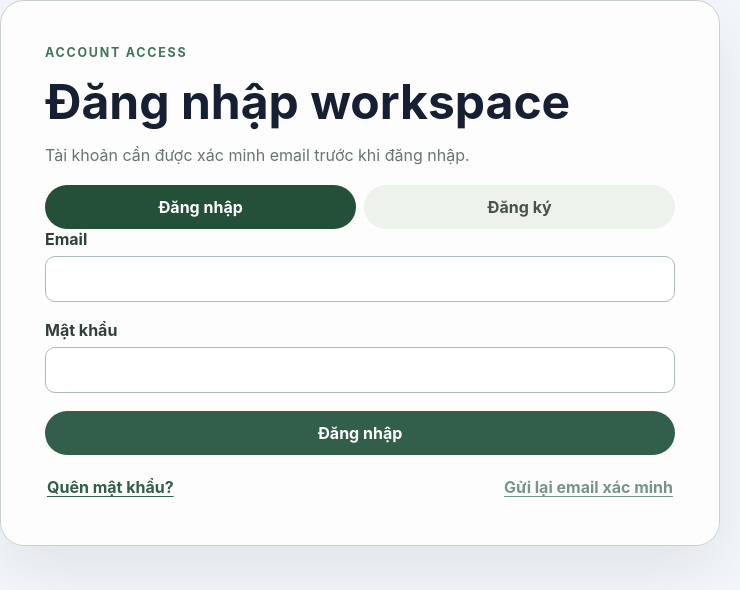
Scenario: LoginPage account recovery › submits a generic forgot-password request without exposing account existence
Click the button "Quên mật khẩu?". click: click(110, 487)
box: [45, 473, 176, 501]
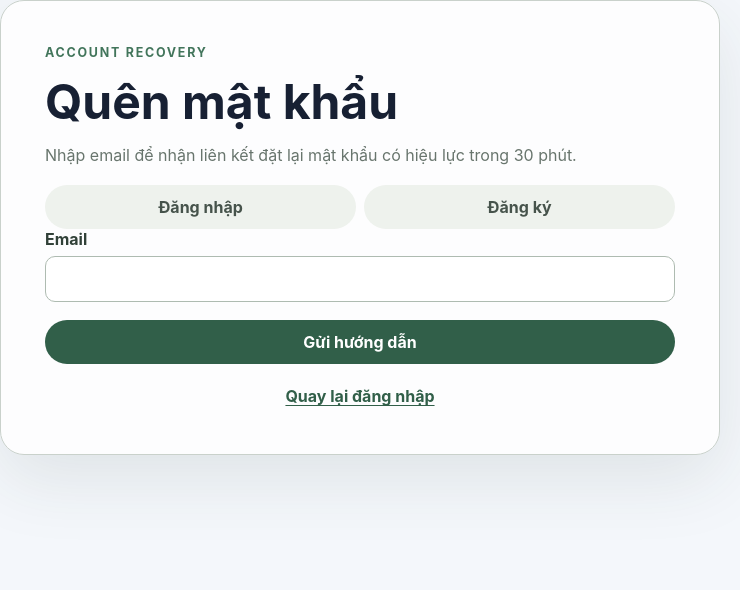
Type "candidate@example.com" into the field labelled "Email". click: (360, 279)
box: [45, 256, 675, 302]
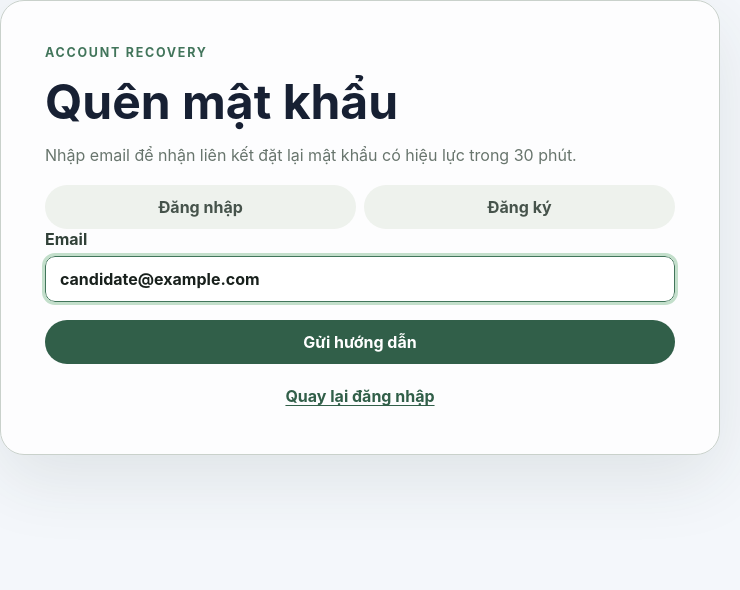
Click the button "Gửi hướng dẫn". click: click(360, 342)
box: [45, 320, 675, 364]
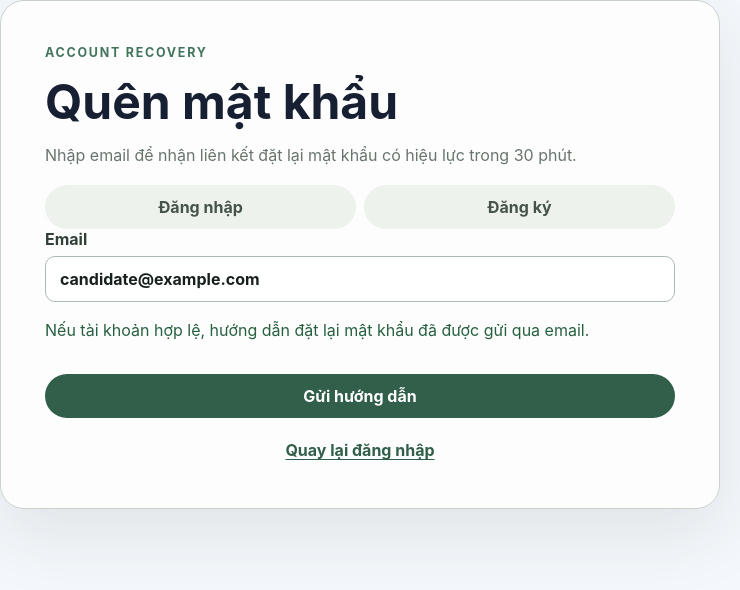
Check: the text "Nếu tài khoản hợp lệ, hướng dẫn đặt lại mật khẩu đã được gửi qua email." is shown, box [45, 320, 675, 340]
